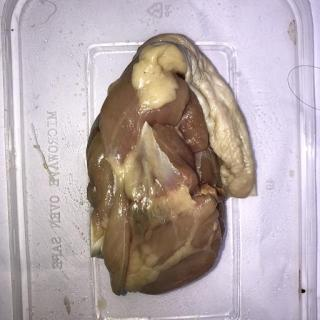Ayam: (86, 33, 258, 297)
